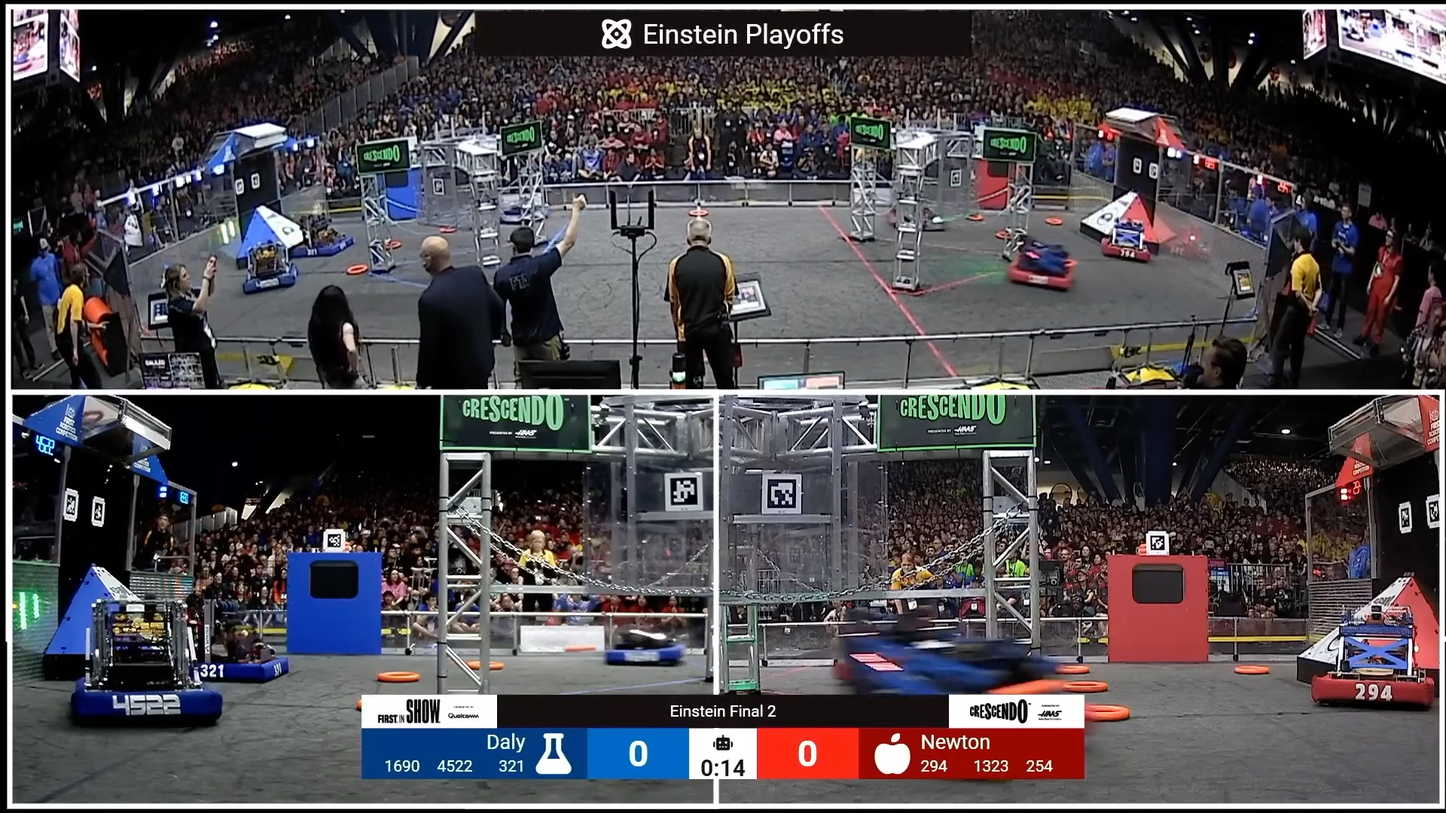bumpers: (65, 677, 232, 730), (1301, 661, 1441, 715), (999, 248, 1086, 295), (1091, 224, 1178, 267), (192, 652, 300, 686), (218, 260, 306, 297), (601, 635, 687, 671), (271, 234, 362, 260), (884, 206, 953, 236)
